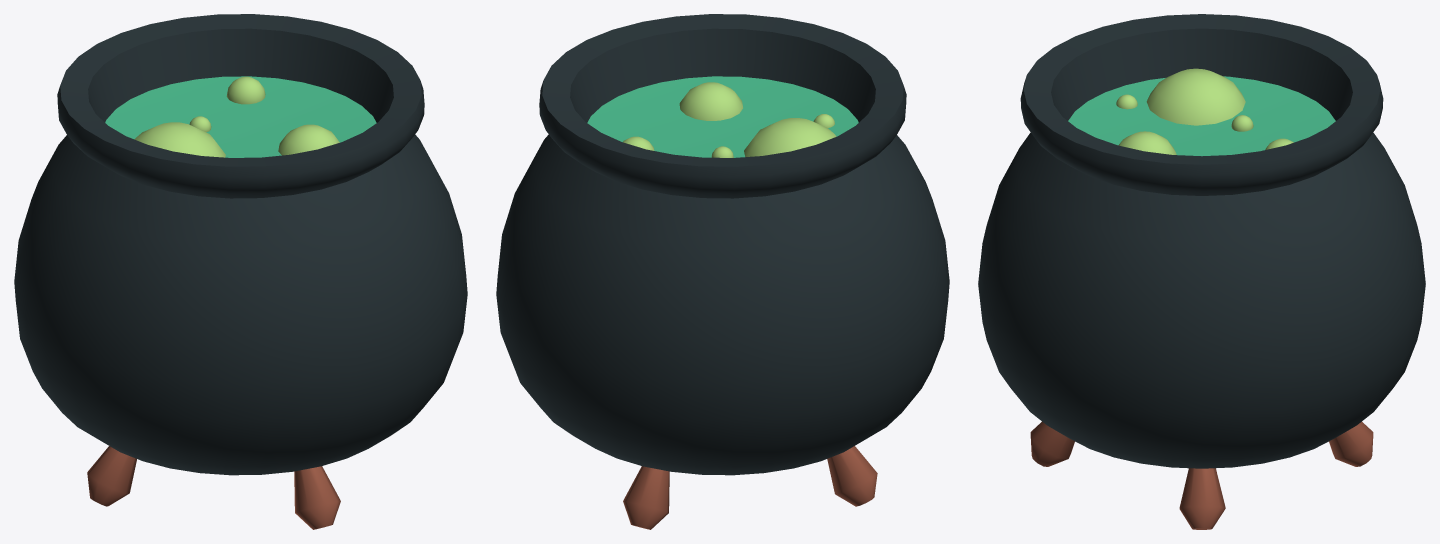
File: cauldron.gltf.glb
The picture shows the model from 3 angles, left to right: view 1: azimuth 30°, elevation 25°; view 2: azimuth 150°, elevation 25°; view 3: azimuth 270°, elevation 25°; orthographic projection.
Visible parts, largest first — view 1: cauldron; view 2: cauldron; view 3: cauldron.
Part boxes in pixels (<box>): cauldron: <box>14,14,467,529</box>; cauldron: <box>496,14,949,529</box>; cauldron: <box>978,14,1425,529</box>.
Size of the model in its own units: 1.2 by 1.11 by 1.2.
